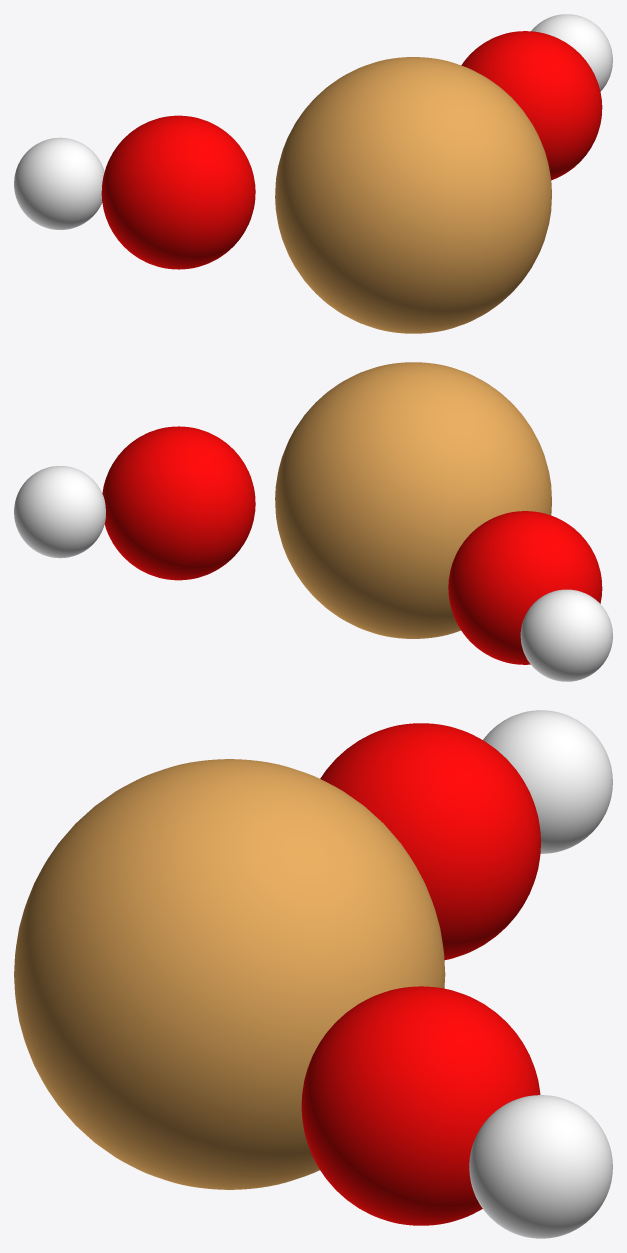
3 views of the same model, one above another, from view 1: azimuth 30°, elevation 25°; view 2: azimuth 150°, elevation 25°; view 3: azimuth 270°, elevation 25° (orthographic). The views are drawn at different scales.
Visible parts, largest first — view 1: Fe_atom, O1_atom, O2_atom, H1_atom, H2_atom; view 2: Fe_atom, O2_atom, O1_atom, H1_atom, H2_atom; view 3: Fe_atom, O2_atom, O1_atom, H2_atom, H1_atom.
Part boxes in pixels (<box>): Fe_atom: <box>275,57,551,333</box>; O1_atom: <box>101,115,255,269</box>; O2_atom: <box>461,31,602,180</box>; H1_atom: <box>14,137,104,229</box>; H2_atom: <box>531,14,612,91</box>; Fe_atom: <box>275,362,551,638</box>; O2_atom: <box>102,426,255,580</box>; O1_atom: <box>448,511,602,664</box>; H1_atom: <box>520,589,612,681</box>; H2_atom: <box>14,466,105,558</box>; Fe_atom: <box>14,759,445,1189</box>; O2_atom: <box>301,986,540,1225</box>; O1_atom: <box>320,723,540,959</box>; H2_atom: <box>469,1095,612,1238</box>; H1_atom: <box>483,710,612,853</box>.
Bounding box in the file's own units: 4.4 × 1.8 × 2.5.
